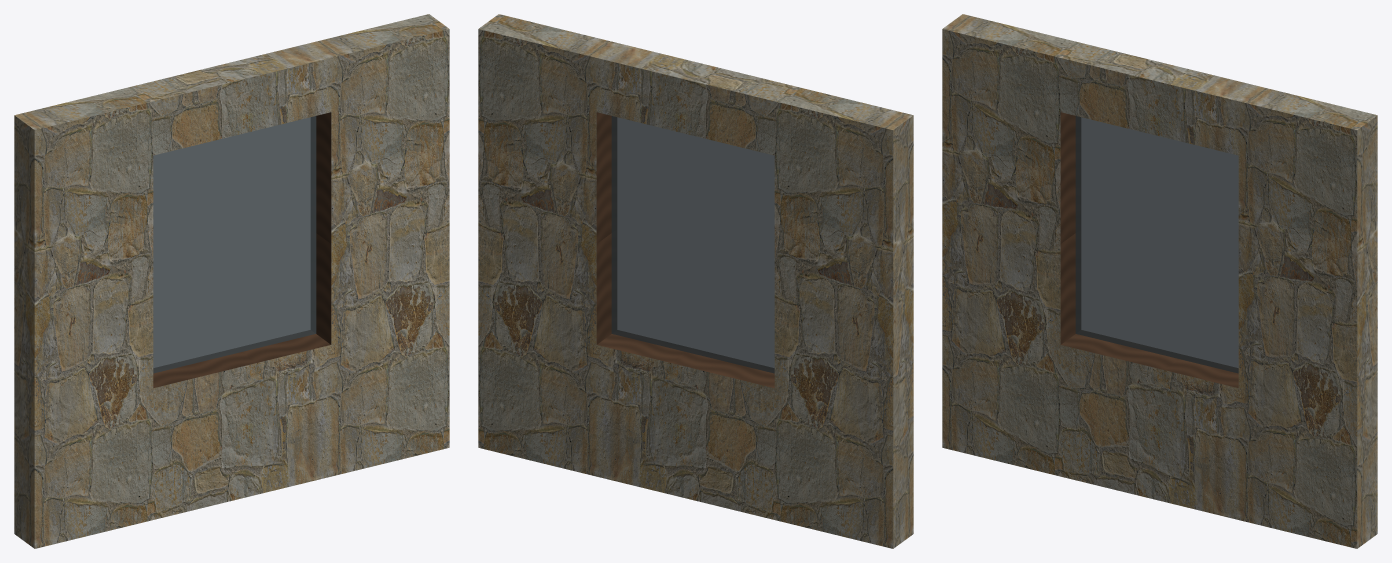
Rendered from opening_window.glb.
3 views of the same model, side by side, from view 1: azimuth 30°, elevation 25°; view 2: azimuth 150°, elevation 25°; view 3: azimuth 330°, elevation 25° (orthographic).
Visible parts, largest first — view 1: opening_window_0; view 2: opening_window_0; view 3: opening_window_0.
Boxes of the visible parts, x1,y1,x2,y2 form: opening_window_0: [14, 14, 449, 548]; opening_window_0: [478, 14, 913, 548]; opening_window_0: [942, 14, 1377, 548].
Size of the model in its own units: 2.8 by 2.7 by 0.24.
3 materials, 2 textured.
